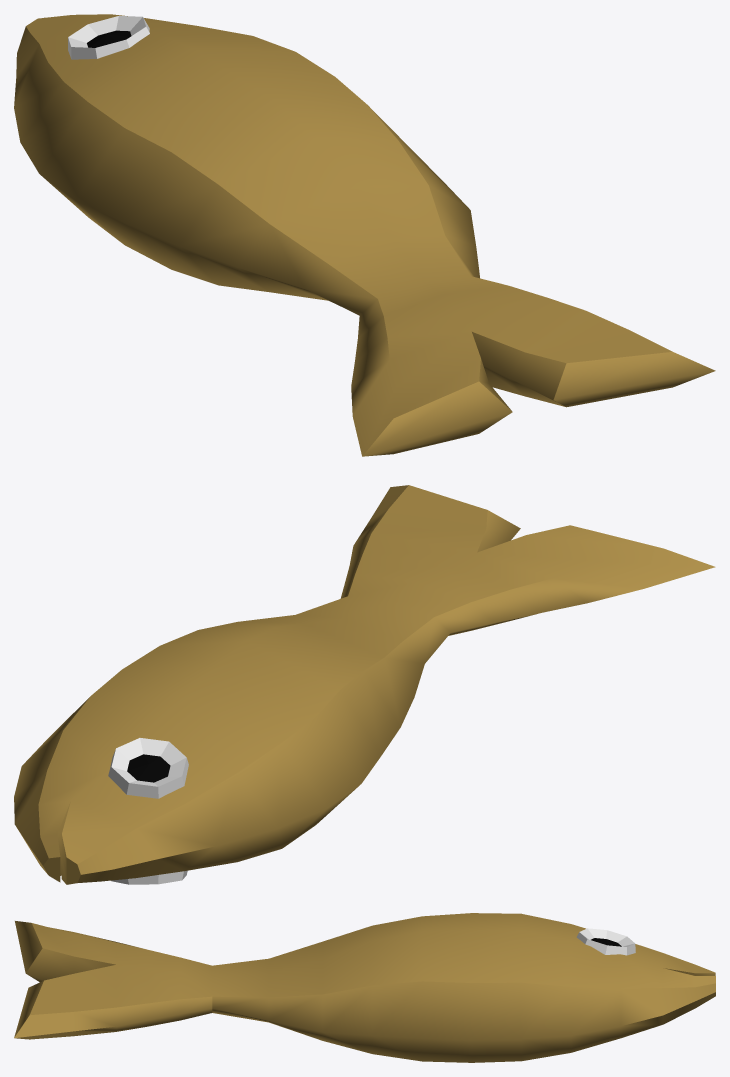
File: fishv2.fbx
3 renders of one model, top to bottom at view 1: azimuth 30°, elevation 25°; view 2: azimuth 150°, elevation 25°; view 3: azimuth 270°, elevation 25°, orthographic. The views are drawn at different scales.
Parts seen in each view (by area): view 1: Fish, EyeR; view 2: Fish, EyeR; view 3: Fish, EyeR.
Part boxes in pixels (x1=…): Fish: x1=14, y1=14, x2=715, y2=456; EyeR: x1=68, y1=16, x2=149, y2=59; Fish: x1=14, y1=485, x2=715, y2=884; EyeR: x1=108, y1=738, x2=188, y2=798; Fish: x1=14, y1=913, x2=715, y2=1062; EyeR: x1=576, y1=928, x2=635, y2=955.
Bounding box in the file's own units: 14.79 × 6.82 × 36.86.
